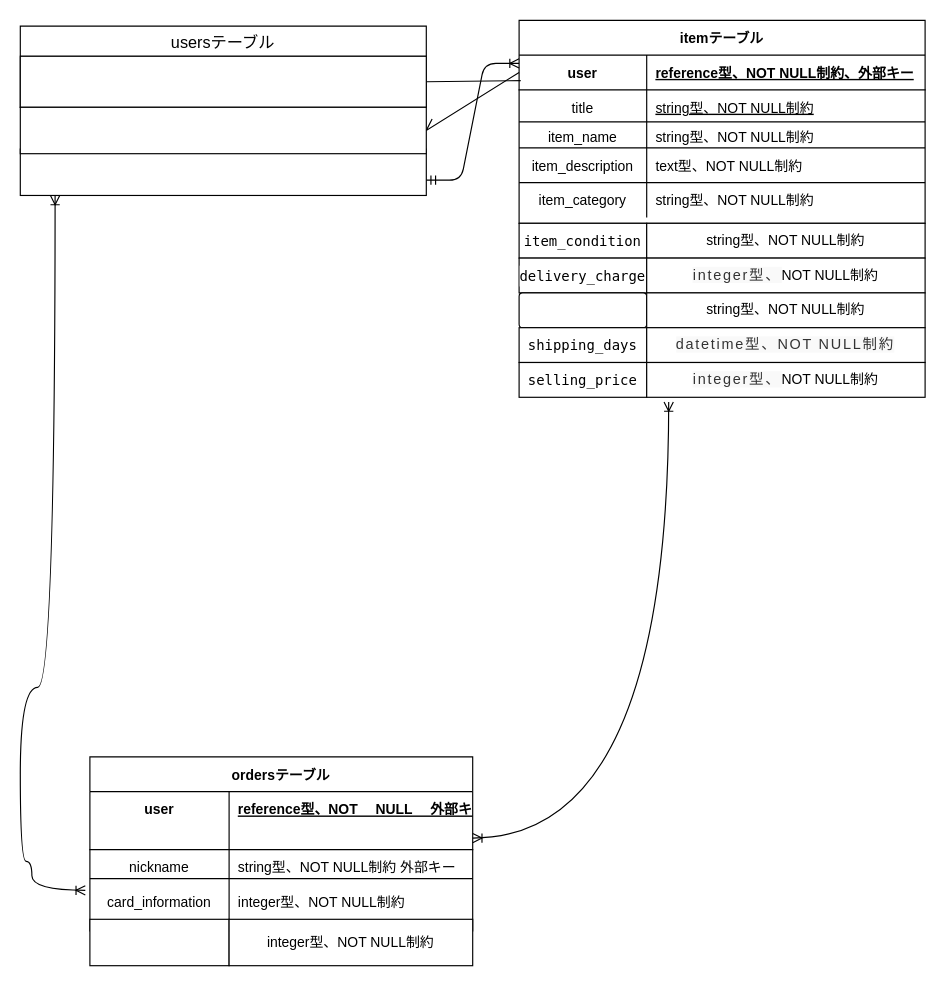
The diagram is 945 pixels wide and 986 high, and some of its shapes have lost their labels. The shapes that lost their labels are listed below. From the top down, each one's centre as x and y in pixels, then its label:
(x=222, y=81): name カラム string型、NOT NULL制約、ユニークキー
(x=222, y=130): email カラム string型、NOT NULL制約
(x=222, y=171): nicknameカラム string型、NOT NULL制約、ユニークキー
(x=582, y=310): shipping_area
(x=159, y=942): shipping_address
